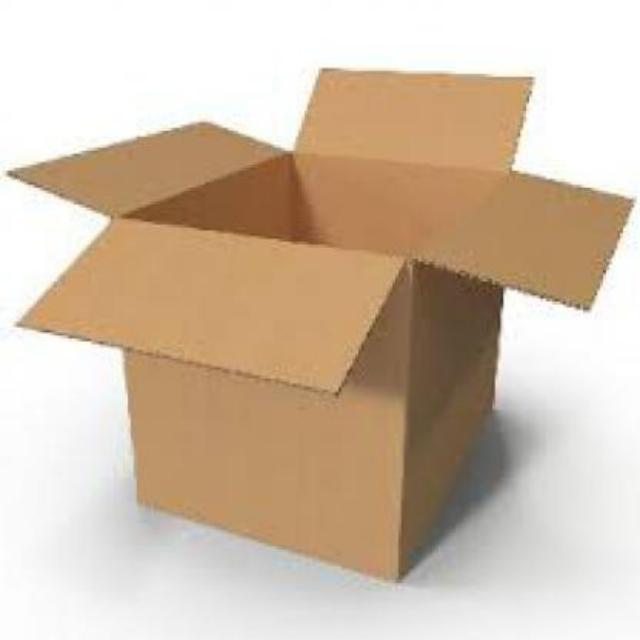cardboard_box: (18, 34, 612, 596)
